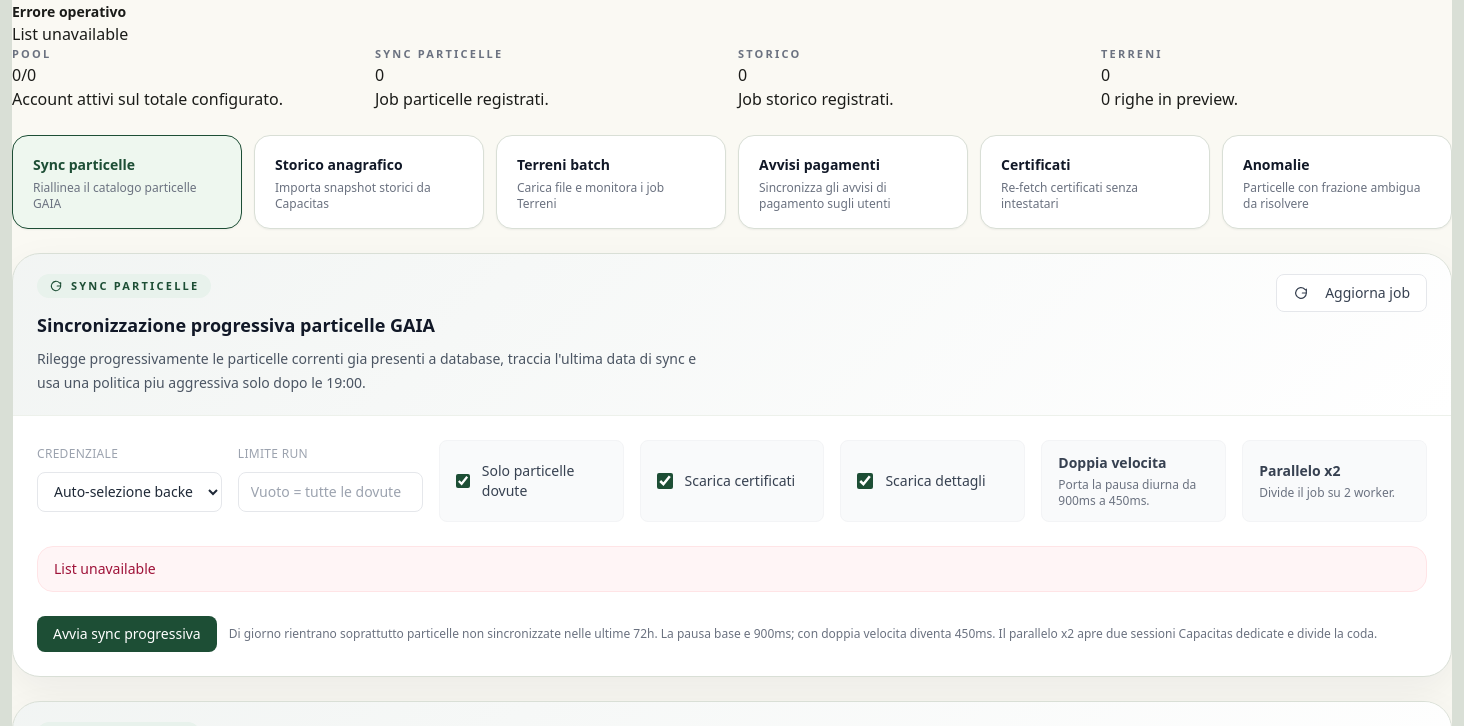
Test: Capacitas Particelle monitor characterization › initial list rejection preserves error until explicit recovery: {}
This screenshot has width=1464, height=726.
expect the text "List unavailable" is shown 2 times: met, box 12,23 -> 128,45; 37,546 -> 1427,592
expect the text "List unavailable" below "Errore operativo" is shown: met, box 12,23 -> 128,45
Click the button "Aggiorna job": x=1352, y=292 1276,274 -> 1427,312
(page scrolled)
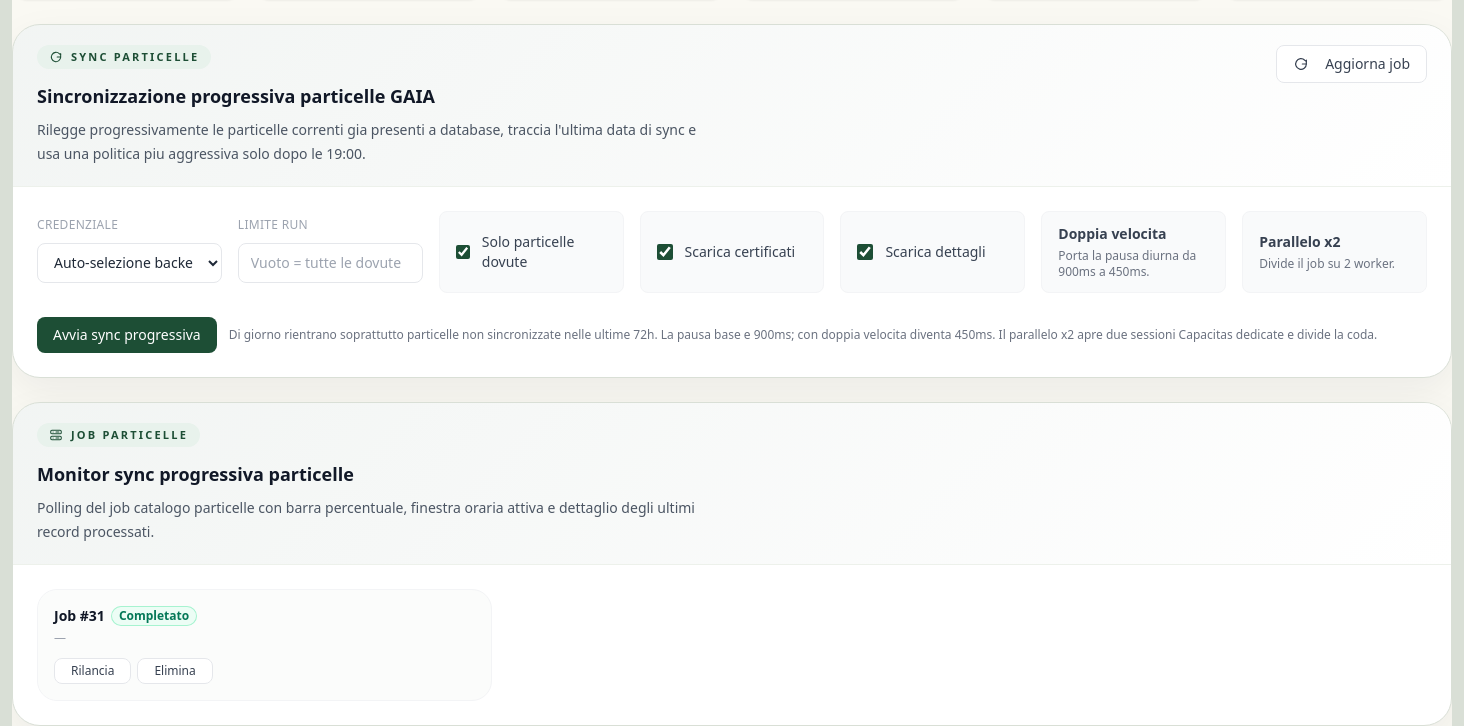
expect the text "Job #31" is shown: met, box 54,606 -> 105,626
expect the text "List unavailable" is gone: met
